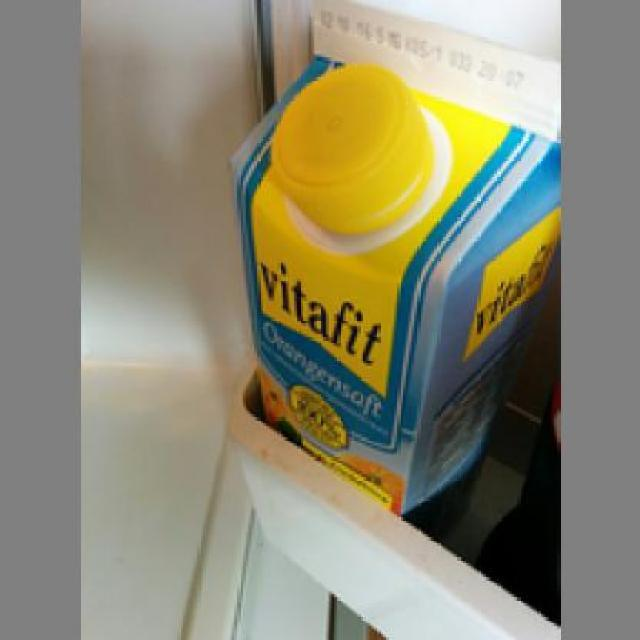Juice: (225, 0, 558, 523)
